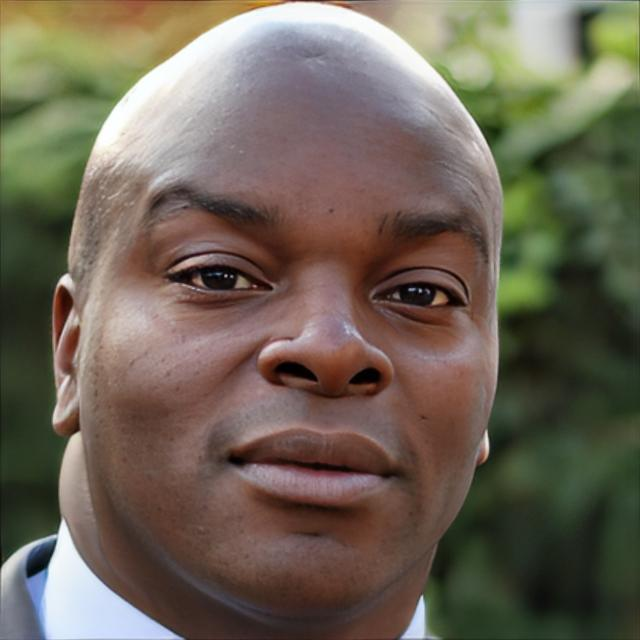content: (82, 76, 507, 618)
